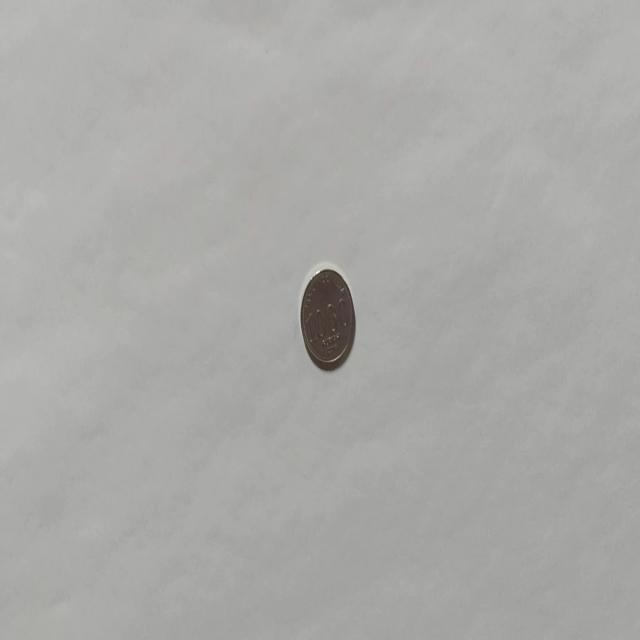seribu rupiah koin: (298, 263, 356, 372)
